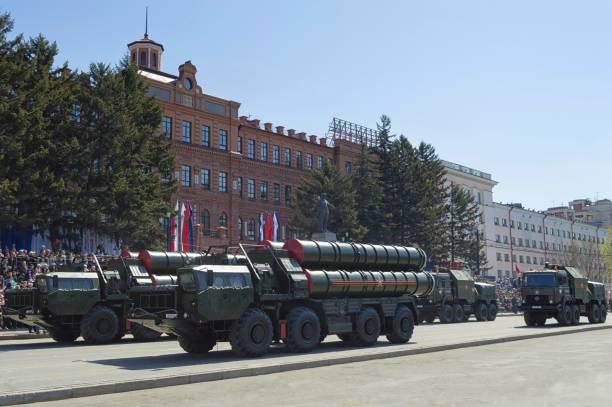MIL_SAM_TEL: (127, 233, 439, 359), (37, 249, 198, 341)
